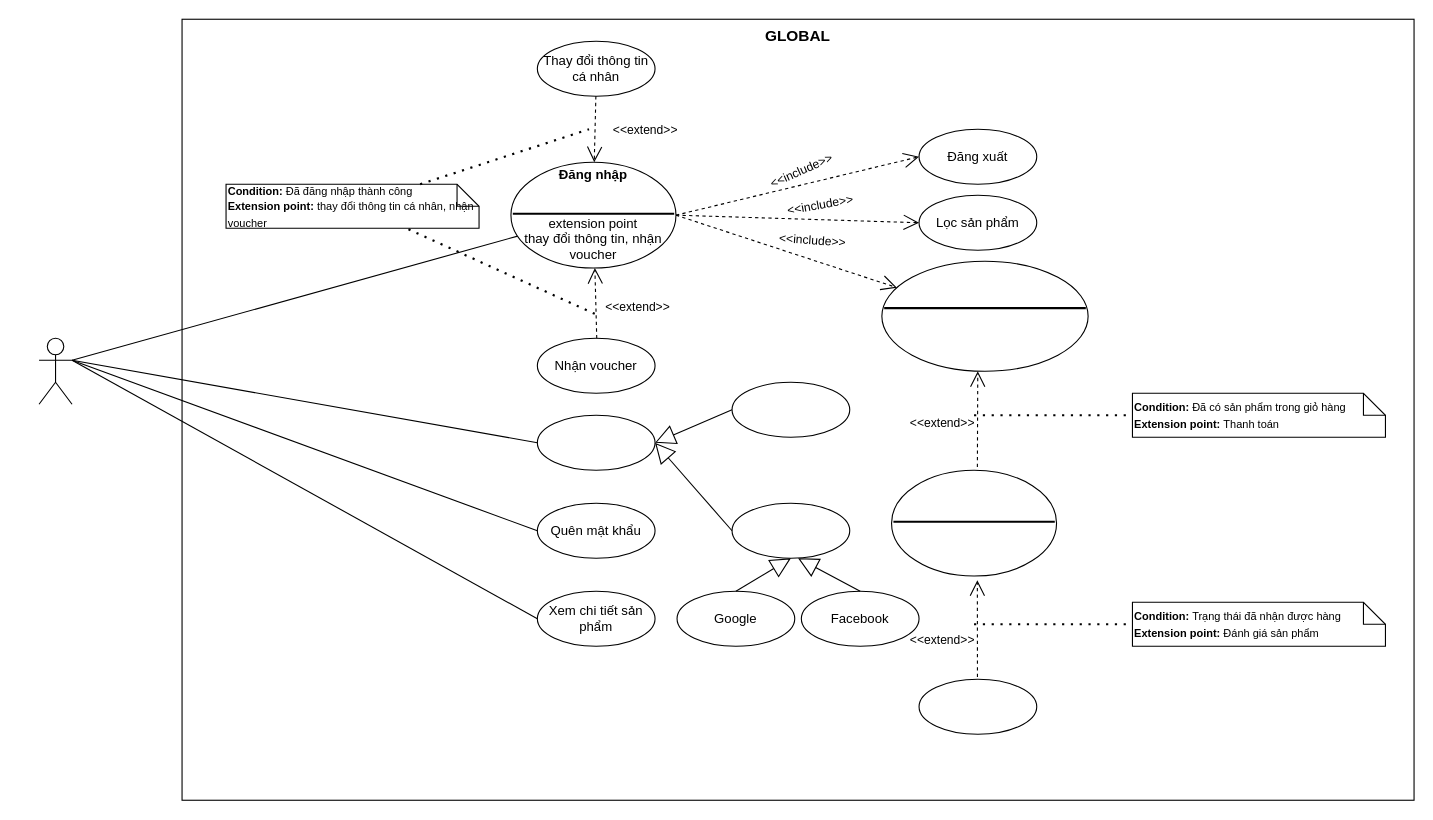
This 1433x820 diagram has some shape labels left out. The centre of each missing label's shape, as x and y in pixels:
Khách Hàng: pixel 55 370
Thanh toán extension point Đánh giá sản phẩm: pixel 973 522
Thêm sản phẩm vào giỏ hàng extension point Thanh toán: pixel 984 315
Đánh giá sản phẩm: pixel 977 706
Đăng ký: pixel 595 442
Đăng ký local: pixel 790 409
Đăng ký qua Oauth2.0: pixel 790 530
